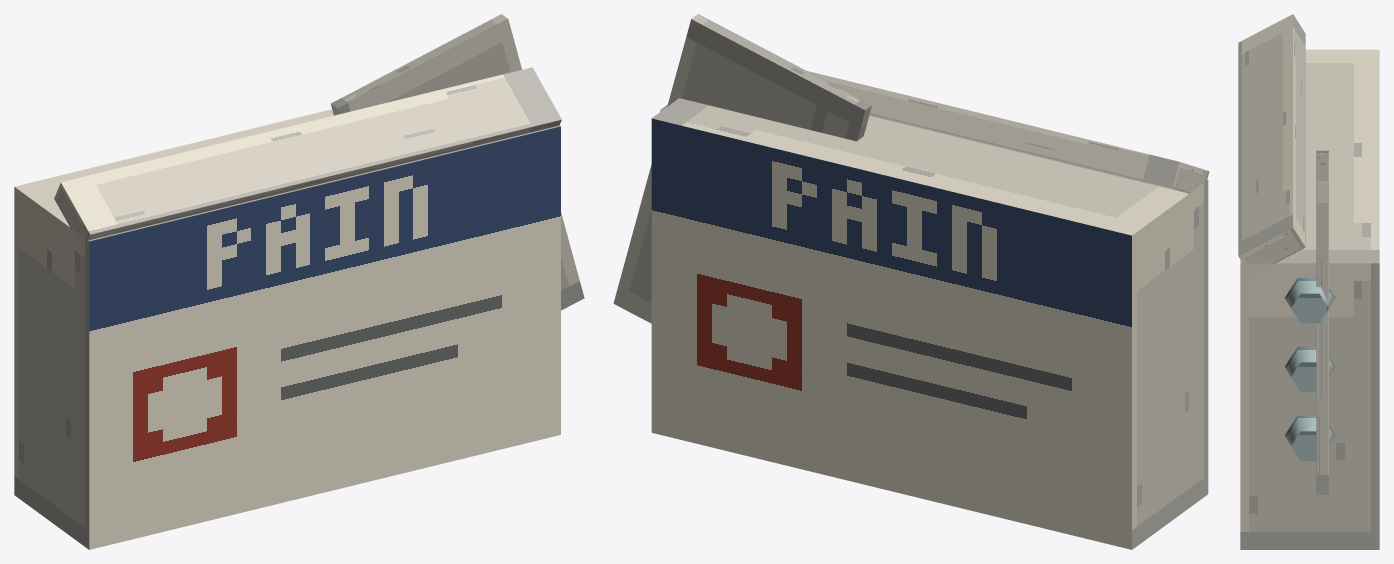
File: INV_PainkillerPack.glb
3 views of the same model, side by side, from view 1: azimuth 30°, elevation 25°; view 2: azimuth 150°, elevation 25°; view 3: azimuth 270°, elevation 25° (orthographic). The views are drawn at different scales.
Visible parts, largest first — view 1: INV_PainkillerPack_Mesh; view 2: INV_PainkillerPack_Mesh; view 3: INV_PainkillerPack_Mesh.
Part boxes in pixels (box(x1,y1,x2,y2)): INV_PainkillerPack_Mesh: box(14, 14, 584, 549); INV_PainkillerPack_Mesh: box(613, 14, 1209, 549); INV_PainkillerPack_Mesh: box(1238, 14, 1379, 549).
Size of what is drawn, in the model's own units: 0.091 by 0.063 by 0.0223.
Materials: 1 (1 with a texture image).
